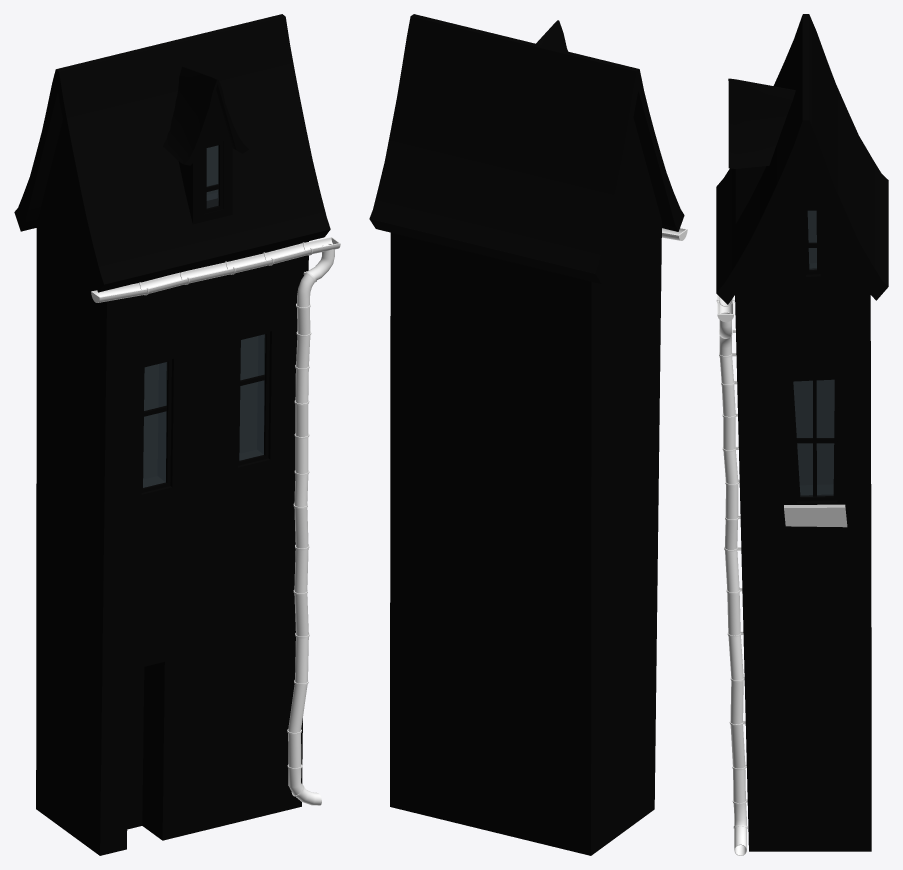
Rendered from bina6.fbx.
The picture shows the model from 3 angles, left to right: view 1: azimuth 30°, elevation 25°; view 2: azimuth 150°, elevation 25°; view 3: azimuth 270°, elevation 25°; orthographic projection. The views are drawn at different scales.
Parts seen in each view (by area): view 1: Cube.006; view 2: Cube.006; view 3: Cube.006.
Boxes of the visible parts, x1,y1,x2,y2 form: Cube.006: (14, 14, 340, 855); Cube.006: (369, 14, 687, 855); Cube.006: (716, 14, 888, 855).
Bounding box in the file's own units: 809 × 2461 × 522.
6 materials, 4 textured.
